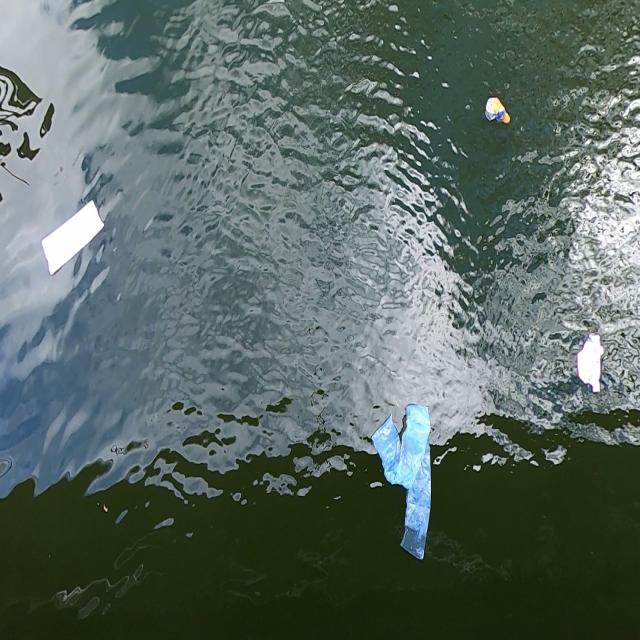Autre plastique: (40, 195, 106, 282)
Bouteille plastique: (482, 92, 516, 131)
Sac plastique: (365, 395, 444, 576)
